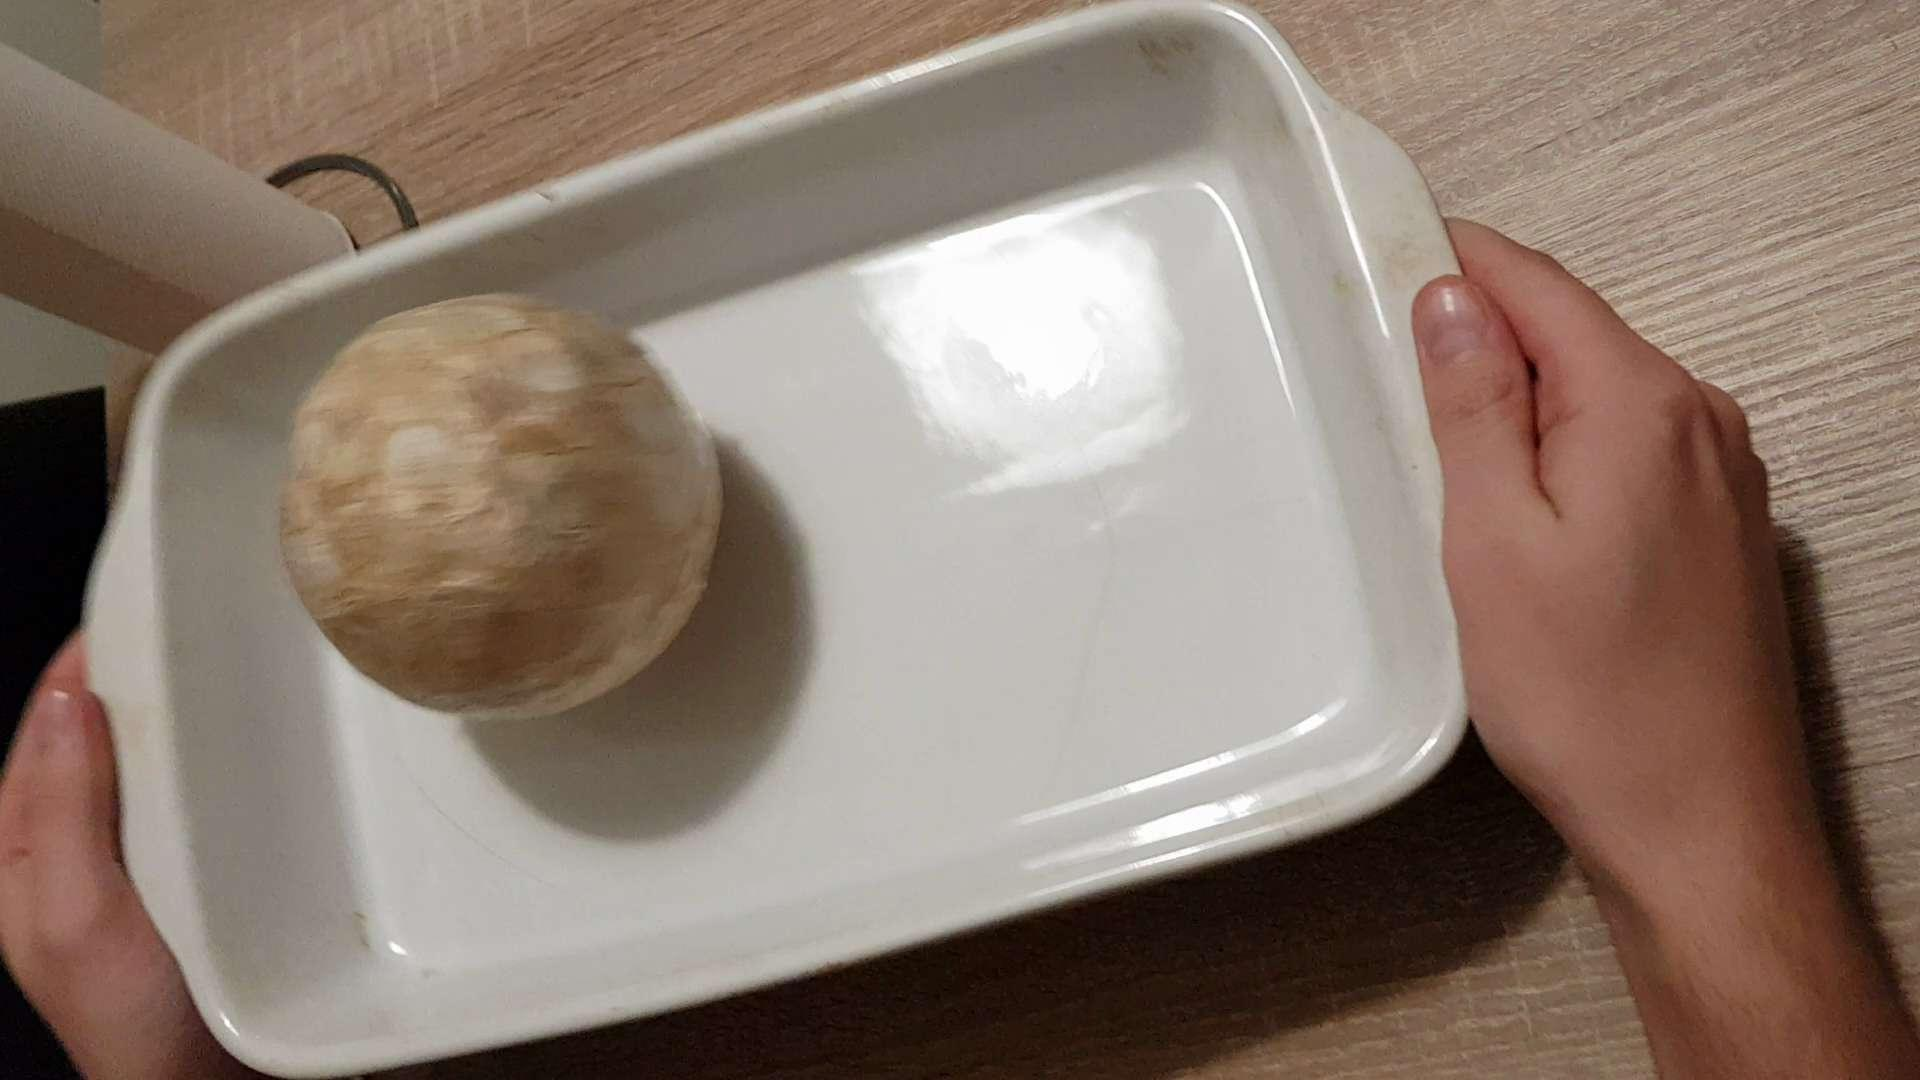sphere: (269, 282, 727, 719)
